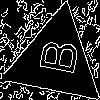B: (30, 35, 79, 76)
